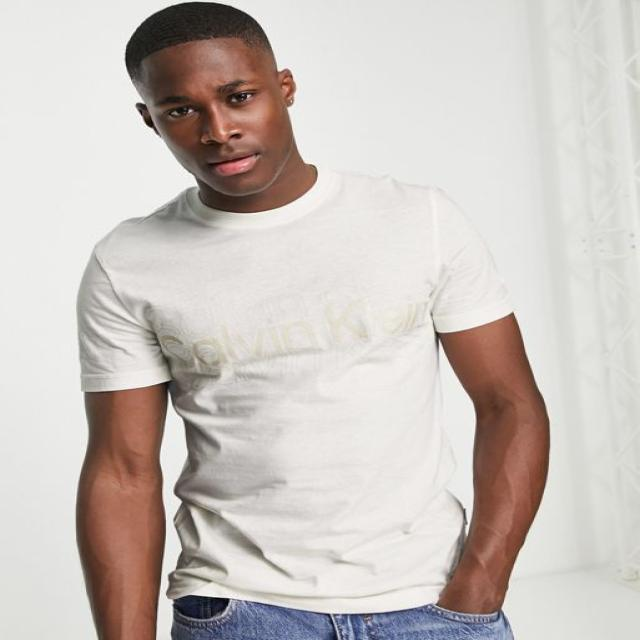tshirt: (75, 167, 513, 611)
